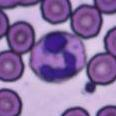N: (30, 31, 86, 82)
